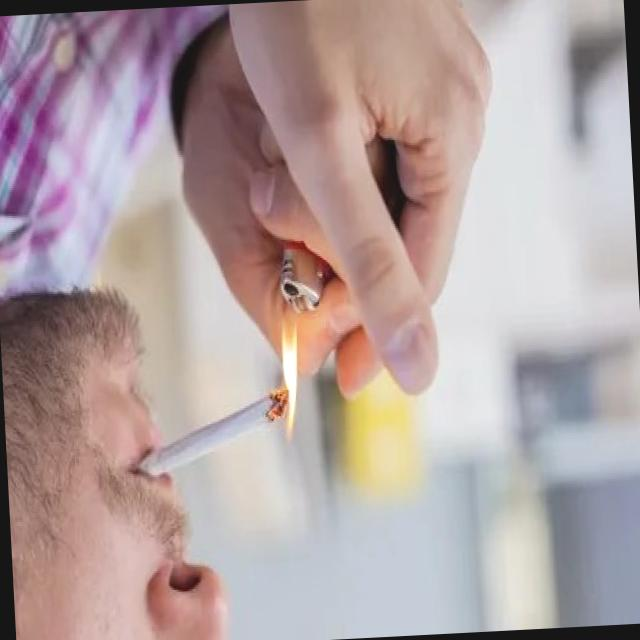cigarette: (138, 376, 294, 484)
